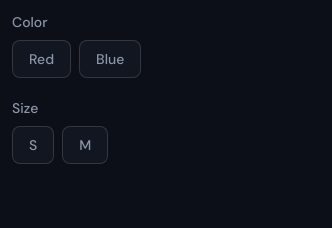
it: SkuSelector › shows SKU code when all attributes selected
Click the radio button labelled "Red": (42, 59) 12,40 -> 71,78
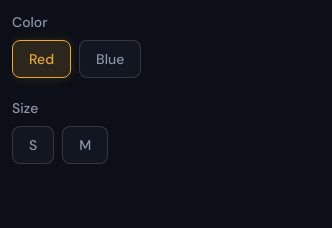
Click the radio button labelled "M": (85, 145) 62,126 -> 108,164
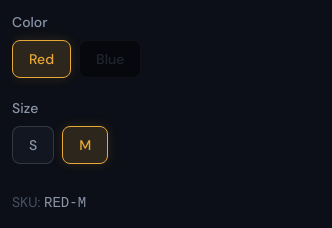
Now the text "RED-M" is shown, box 44,195 -> 86,211
